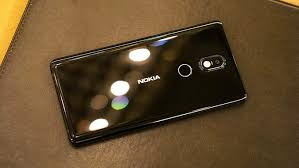nokia: (45, 21, 252, 151)
